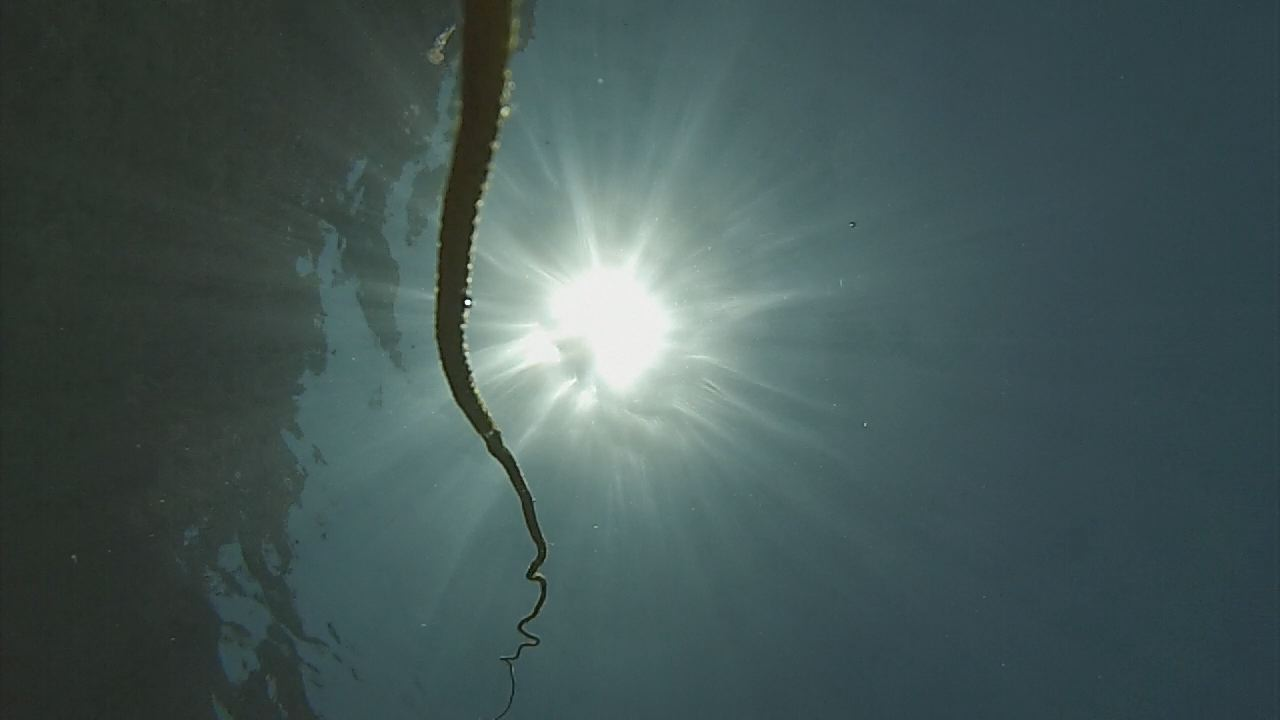pelagia: (422, 21, 457, 68)
